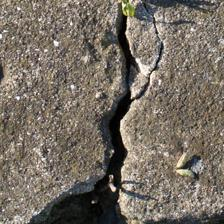Crack: (36, 10, 141, 223), (131, 5, 171, 103)
